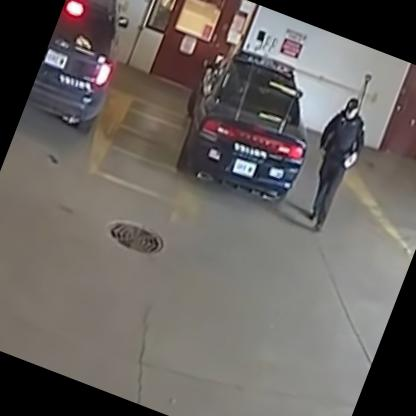Human Body: (286, 90, 380, 238)
